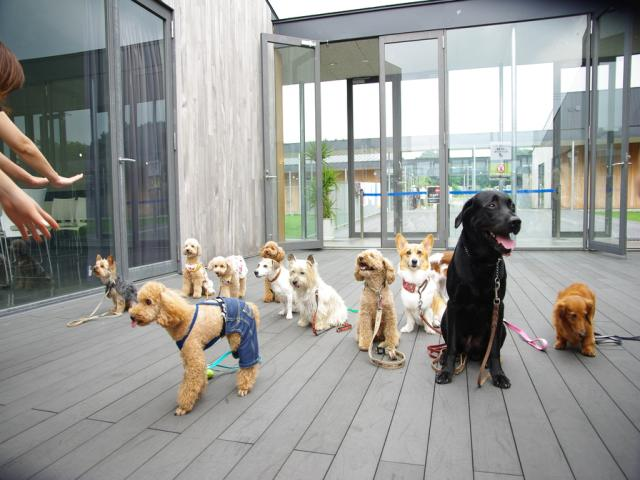Dog: (92, 190, 521, 416), (432, 190, 525, 382), (552, 282, 598, 357)
